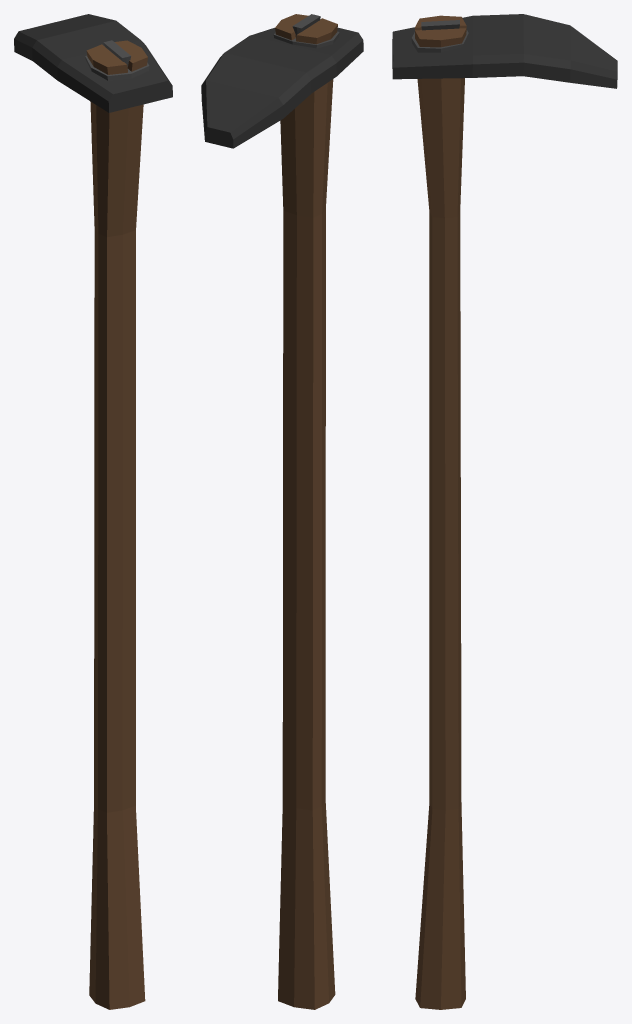
Rendered from hoe.glb.
3 views of the same model, side by side, from view 1: azimuth 30°, elevation 25°; view 2: azimuth 150°, elevation 25°; view 3: azimuth 270°, elevation 25° (orthographic). The views are drawn at different scales.
Parts seen in each view (by area): view 1: hoe; view 2: hoe; view 3: hoe.
Boxes of the visible parts, <box> form: hoe: <box>14,14,172,1009</box>; hoe: <box>201,14,363,1009</box>; hoe: <box>392,14,617,1009</box>.
Size of the model in its own units: 0.1869 by 1.9 by 0.3981.
1 material, 1 textured.
